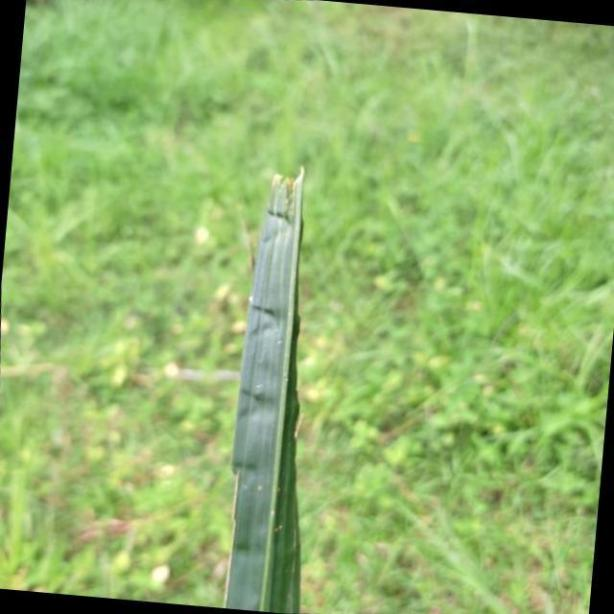Boron: (226, 168, 308, 614)
